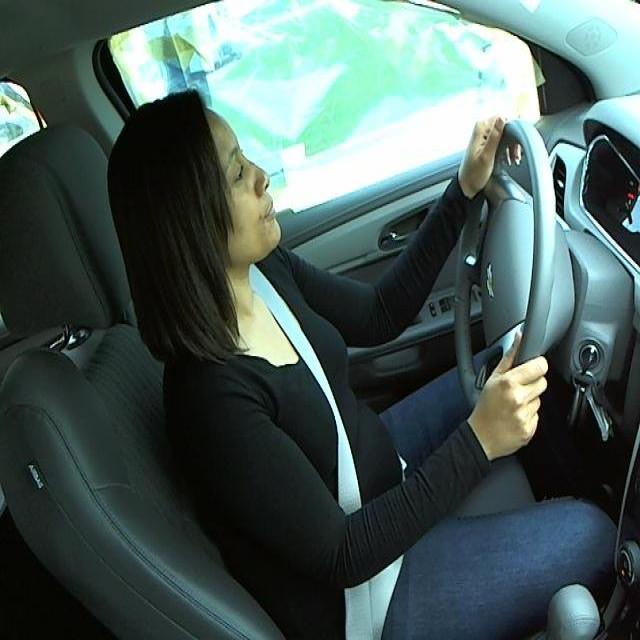without_using_phone: (111, 62, 310, 326)
